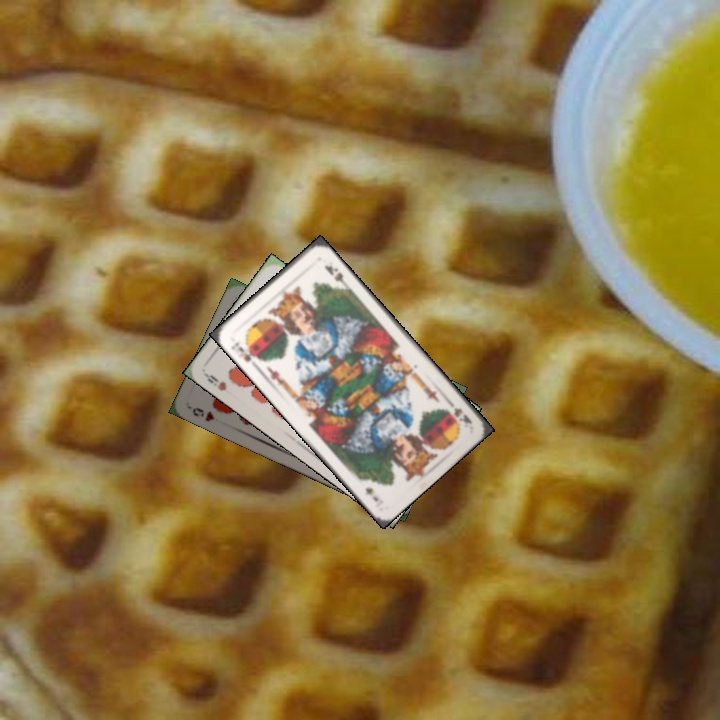H9: (201, 370, 229, 393), (188, 403, 217, 424)
SK: (227, 338, 263, 364), (445, 399, 475, 426)
